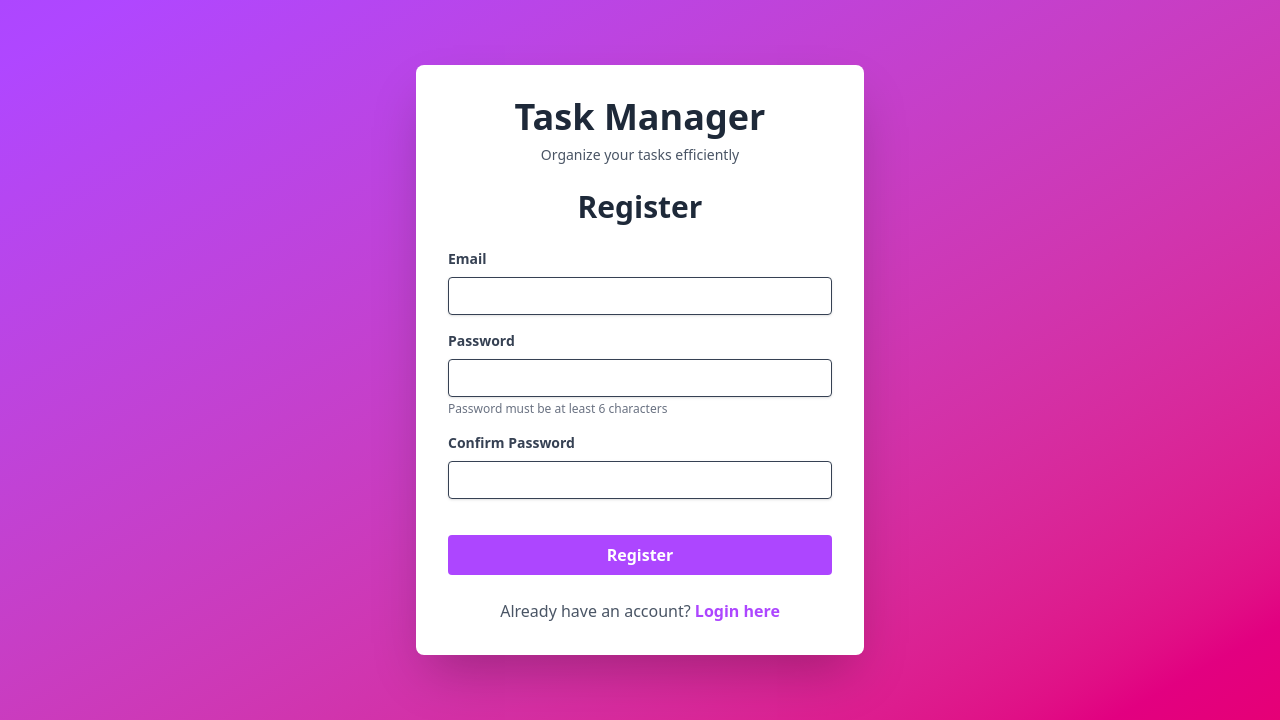
Test: Authentication Flow › User Registration › should show error for weak password
Type "test@example.com" into the field labelled "Email" at point(640, 296), box top-left (448, 277), bottom-right (832, 315)
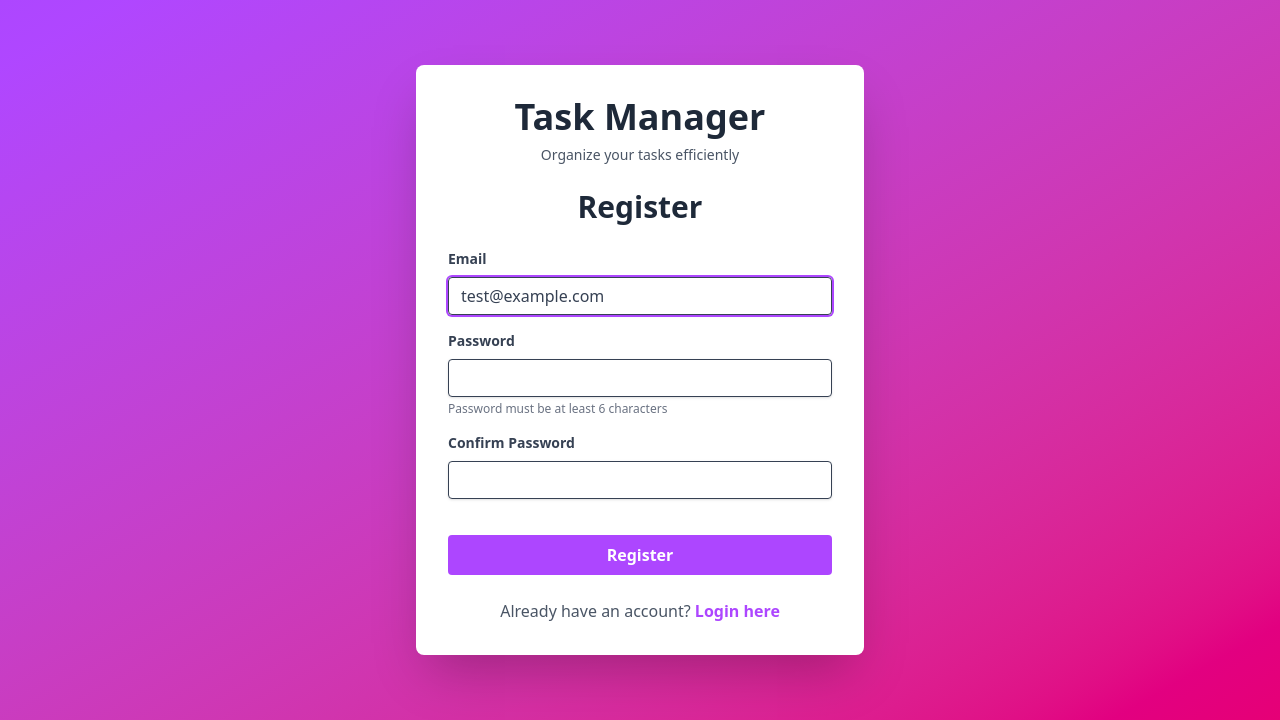
Type "weak" into the password field labelled "Password" at point(640, 378), box top-left (448, 359), bottom-right (832, 397)
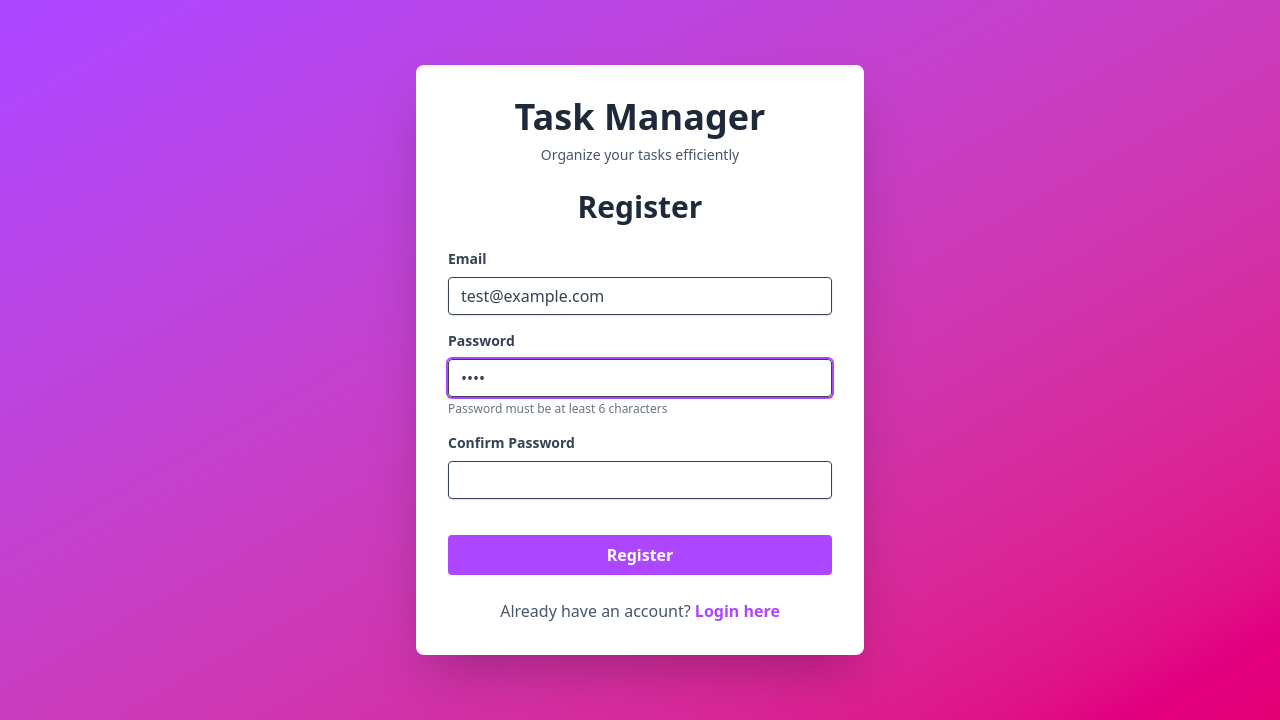
Type "weak" into the password field labelled "Confirm Password" at point(640, 480), box top-left (448, 461), bottom-right (832, 499)
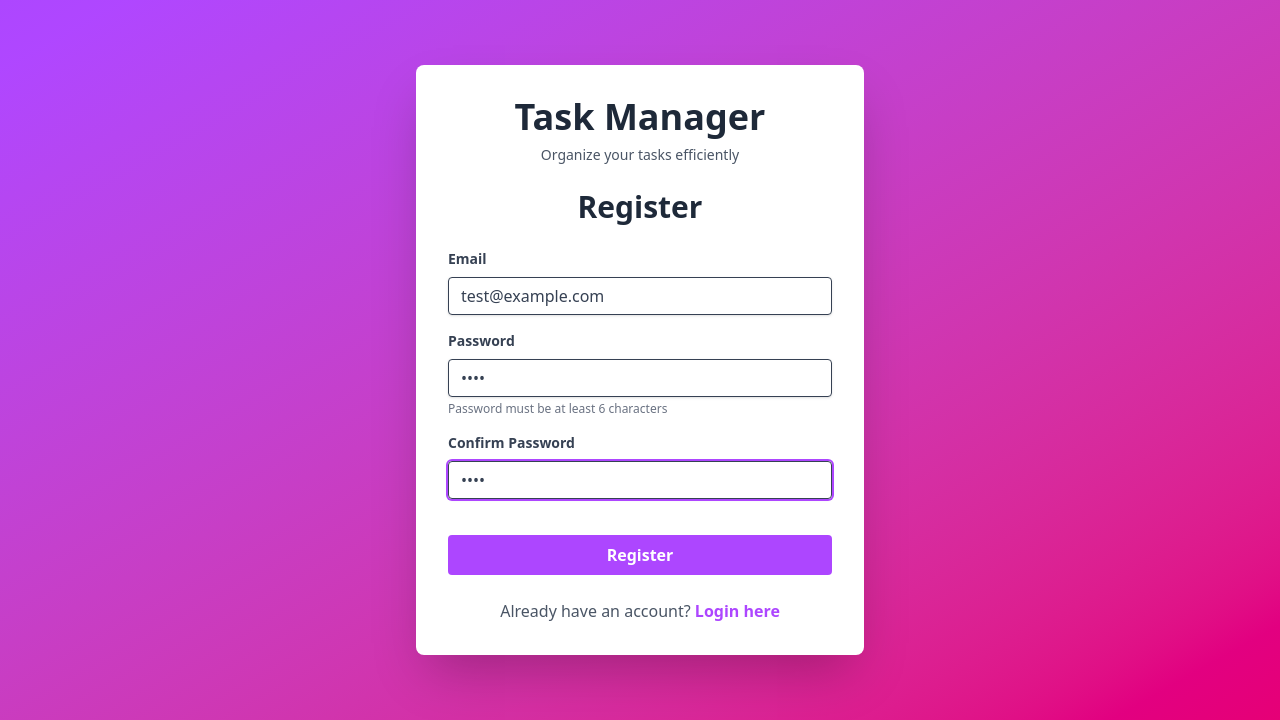
Click the submit button at point(640, 555), box top-left (448, 535), bottom-right (832, 575)
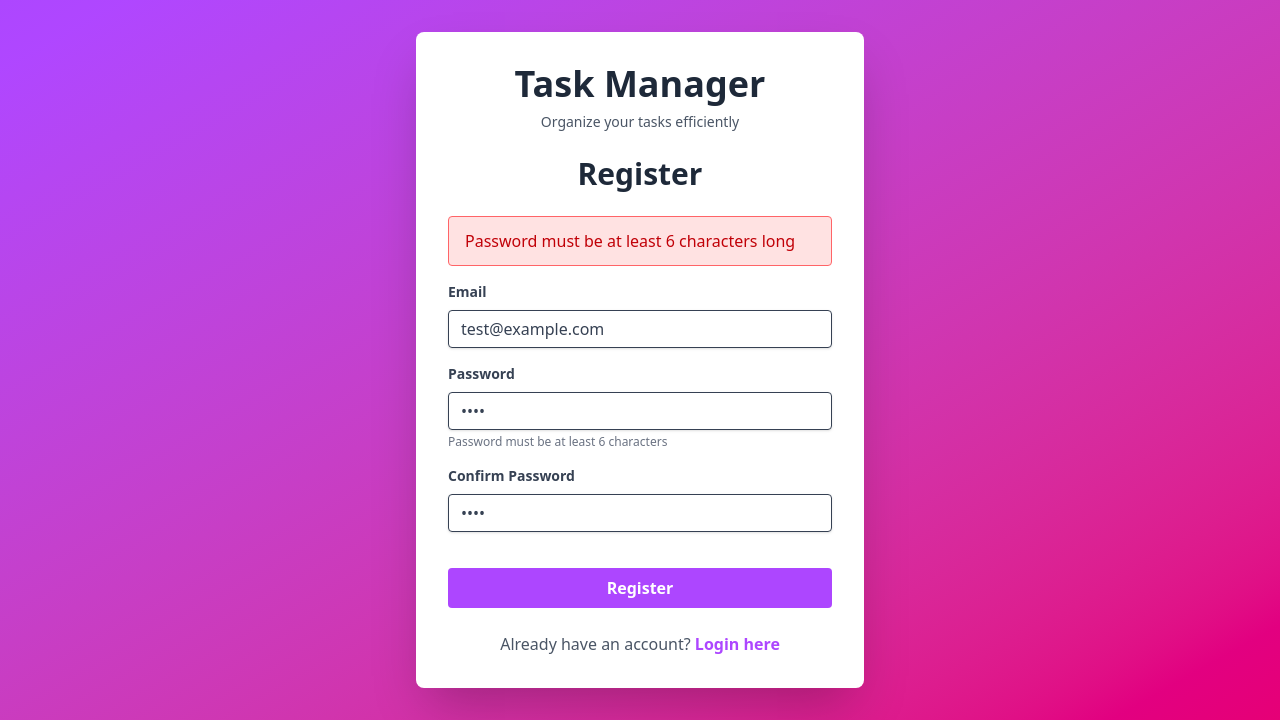
expect the text "Password must be at least 6 characters" is shown: met, box top-left (465, 230), bottom-right (795, 252)
